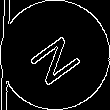N_NE: (23, 24, 87, 86)
